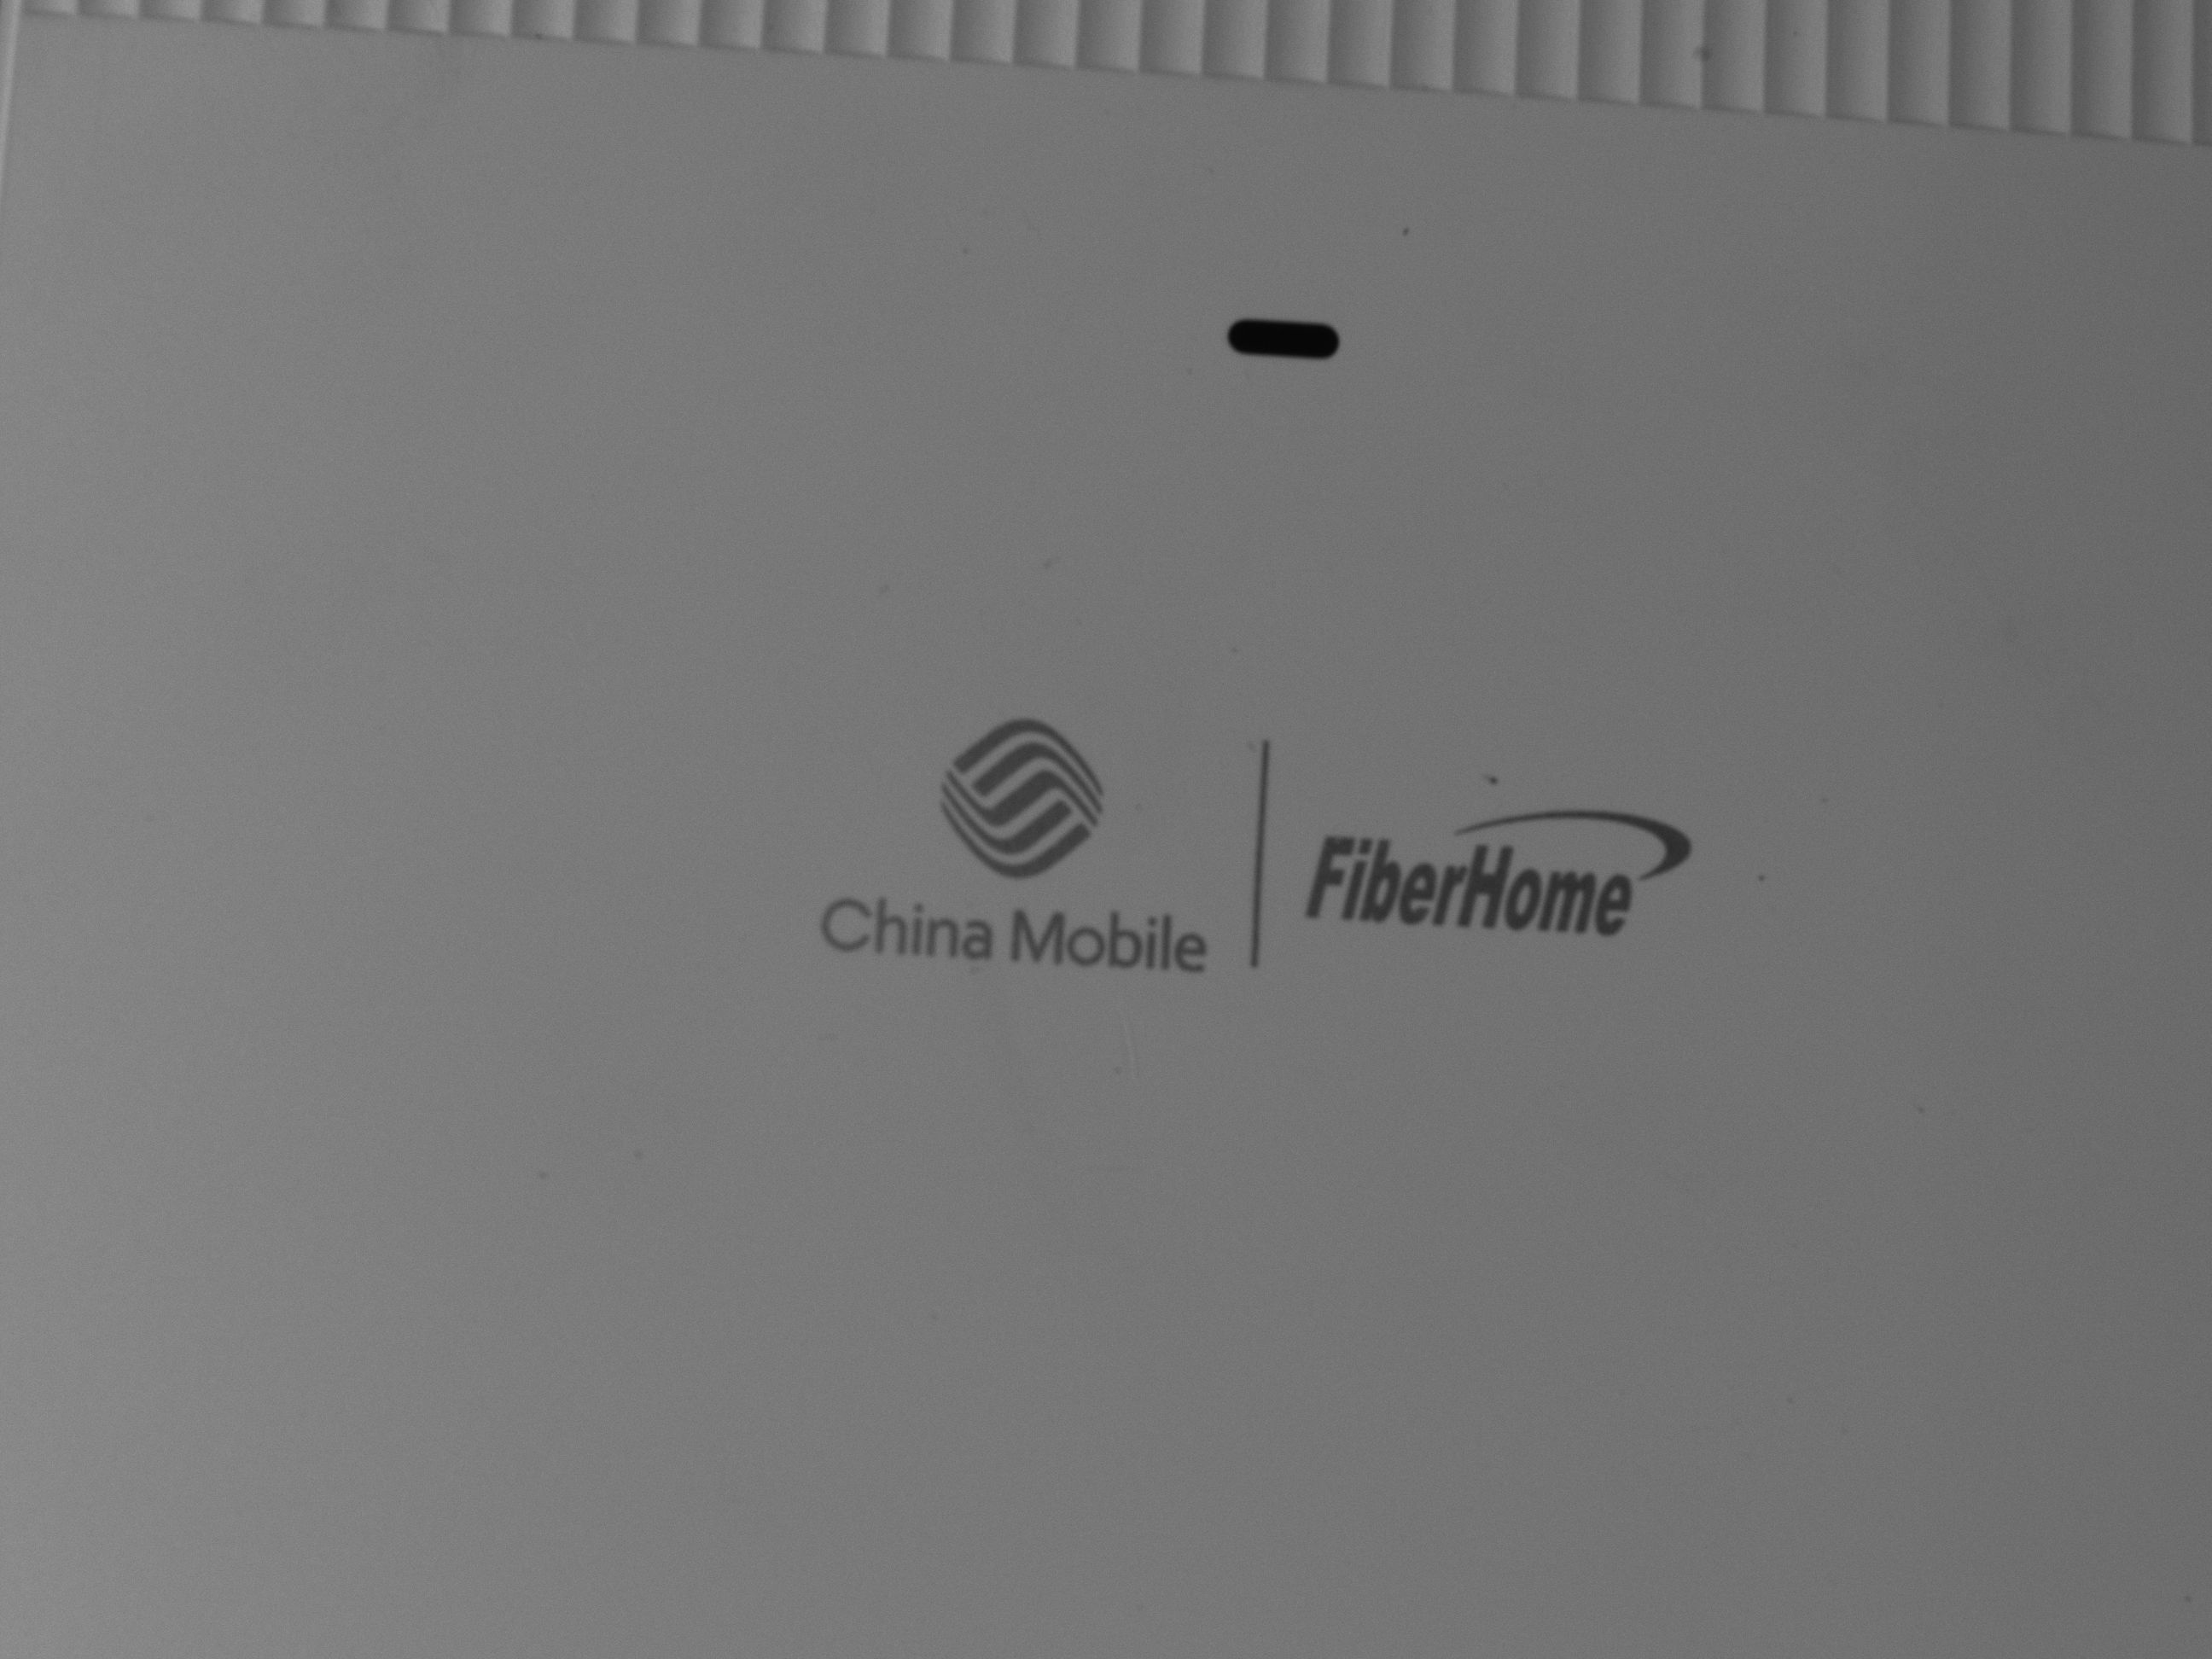BX_HG6371FMobileFiberhome: (819, 695, 1700, 971)
